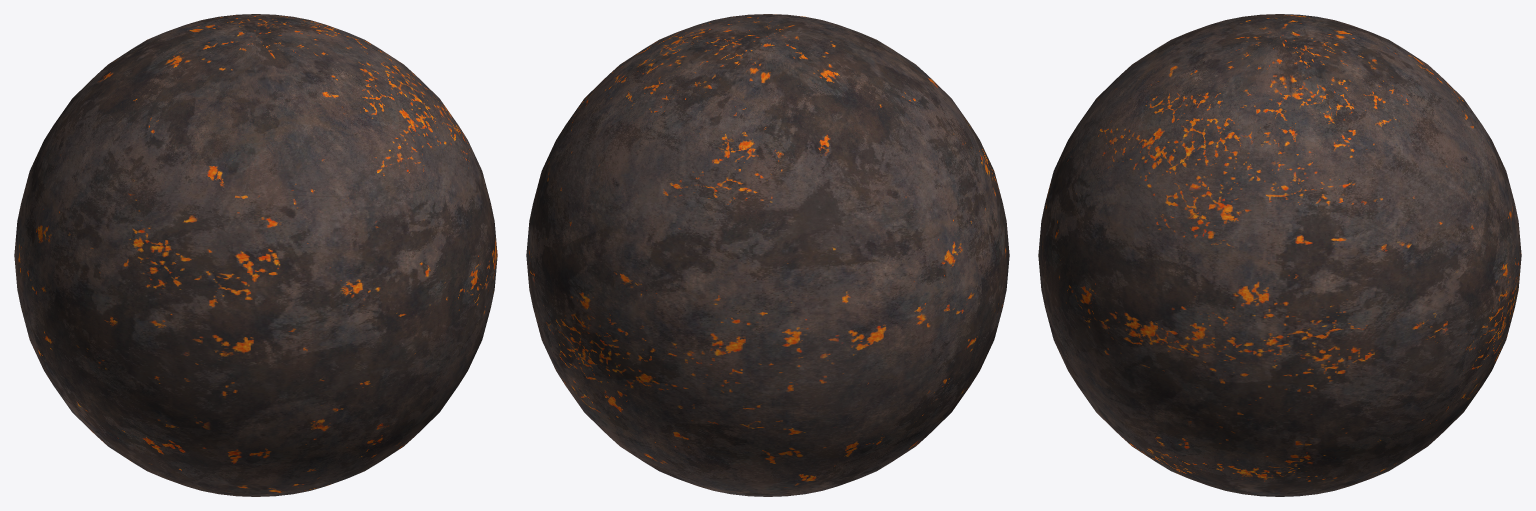
File: lava.glb
3 renders of one model, left to right at view 1: azimuth 30°, elevation 25°; view 2: azimuth 150°, elevation 25°; view 3: azimuth 270°, elevation 25°, orthographic.
Parts seen in each view (by area): view 1: planet_lava; view 2: planet_lava; view 3: planet_lava.
Boxes of the visible parts, x1,y1,x2,y2 form: planet_lava: [14, 14, 497, 496]; planet_lava: [526, 14, 1009, 496]; planet_lava: [1038, 14, 1521, 496].
Size of the model in its own units: 2 by 2 by 2.
1 material, 1 textured.
